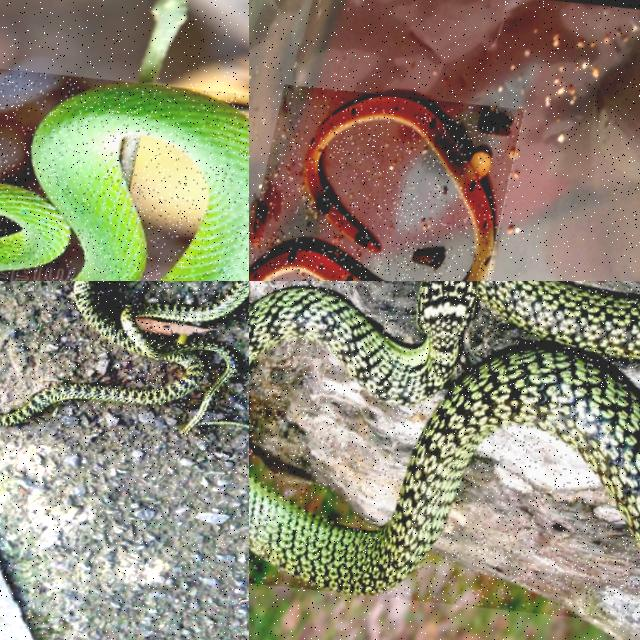Calliophis maculiceps: (308, 95, 498, 280)
Chrysopelea ornata: (249, 349, 639, 593), (0, 281, 248, 433)
Trimeresurus: (0, 83, 248, 280)
